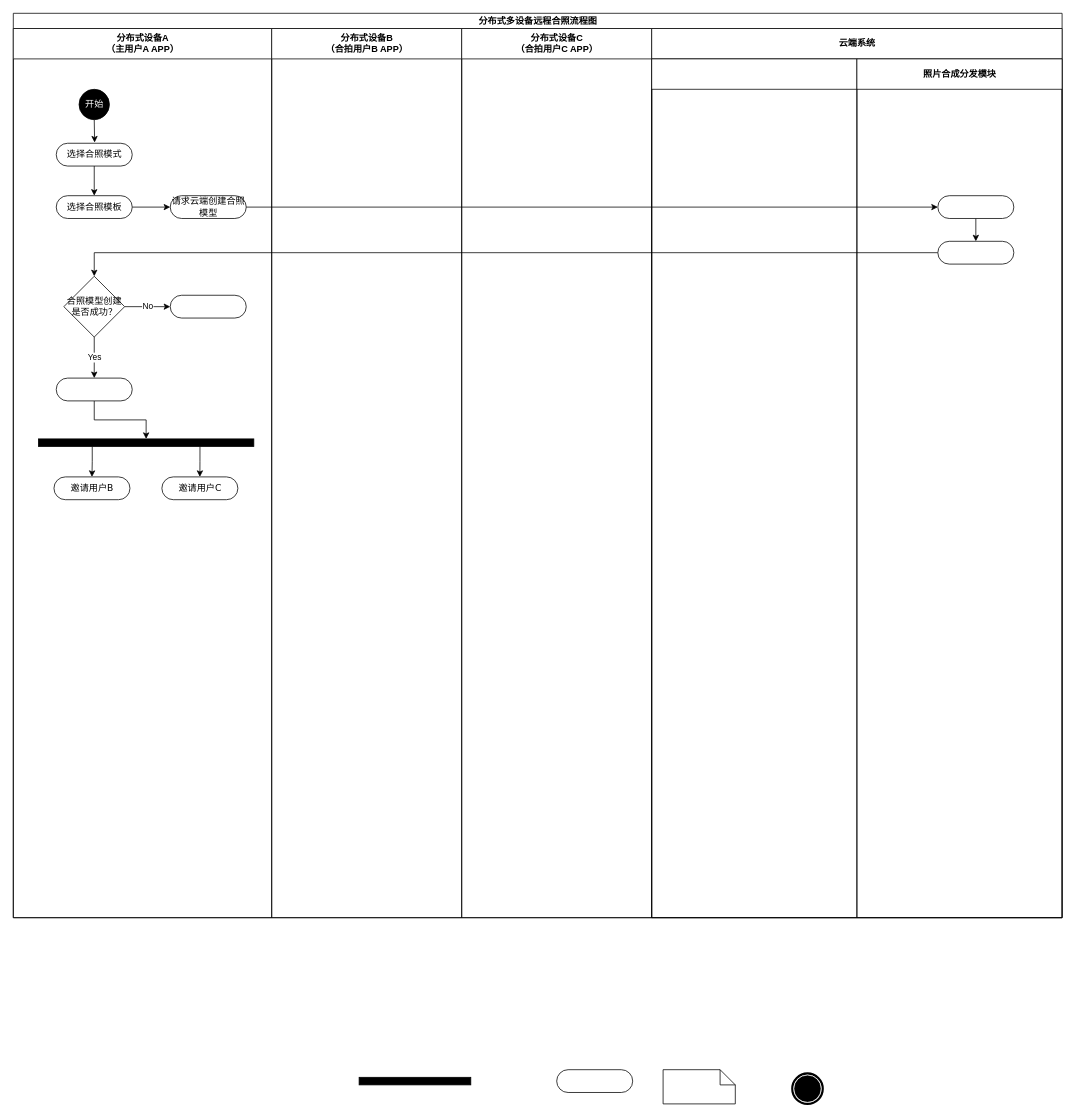
Image size: 1075x1117. Some labels were removed from this diagram. Here are the shapes that lost their labels. From the top down, the centre of each, then its label:
At [975,206]: "创建合照模型".
At [975,252]: "返回创建结果".
At [207,306]: "提示用户模型创建失败".
At [93,389]: "邀请合照成员".
At [754,488]: "社交账户模块".
At [594,1080]: "Action".
At [698,1086]: "Note".
